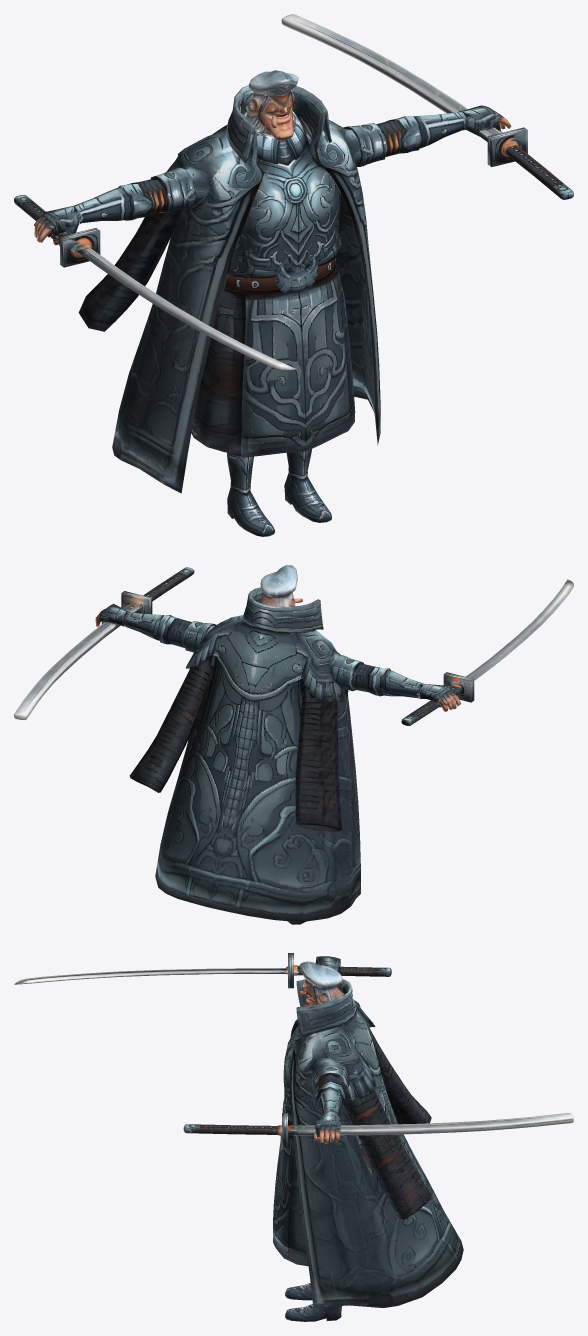
File: Meshy_AI__0628064451_texture_1782629105401.glb
3 views of the same model, one above another, from view 1: azimuth 30°, elevation 25°; view 2: azimuth 150°, elevation 25°; view 3: azimuth 270°, elevation 25° (orthographic). The views are drawn at different scales.
Bounding box in the file's own units: 1.5 × 1.35 × 2.
Materials: 1 (1 with a texture image).
